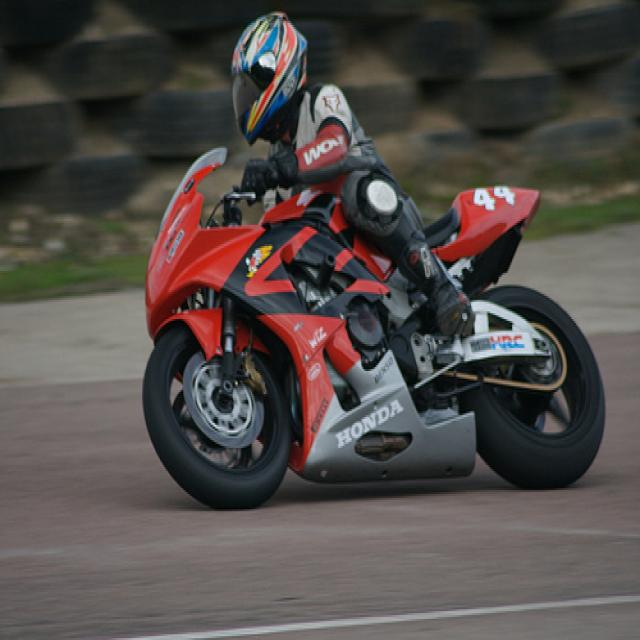motorcycle: (142, 147, 596, 508)
